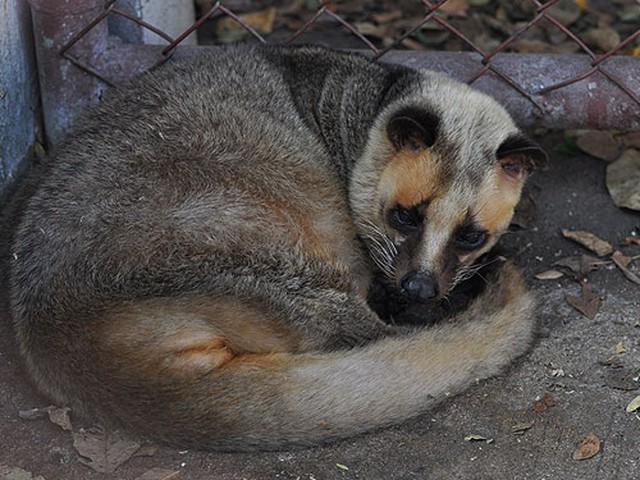civet: (11, 43, 558, 447)
